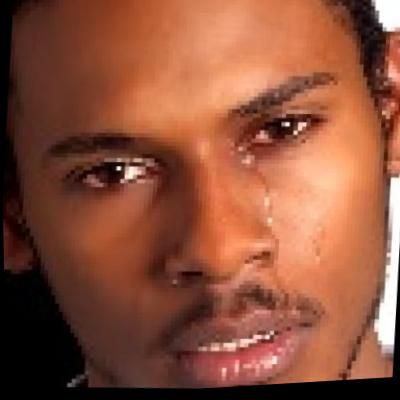sad: (15, 0, 396, 399)
